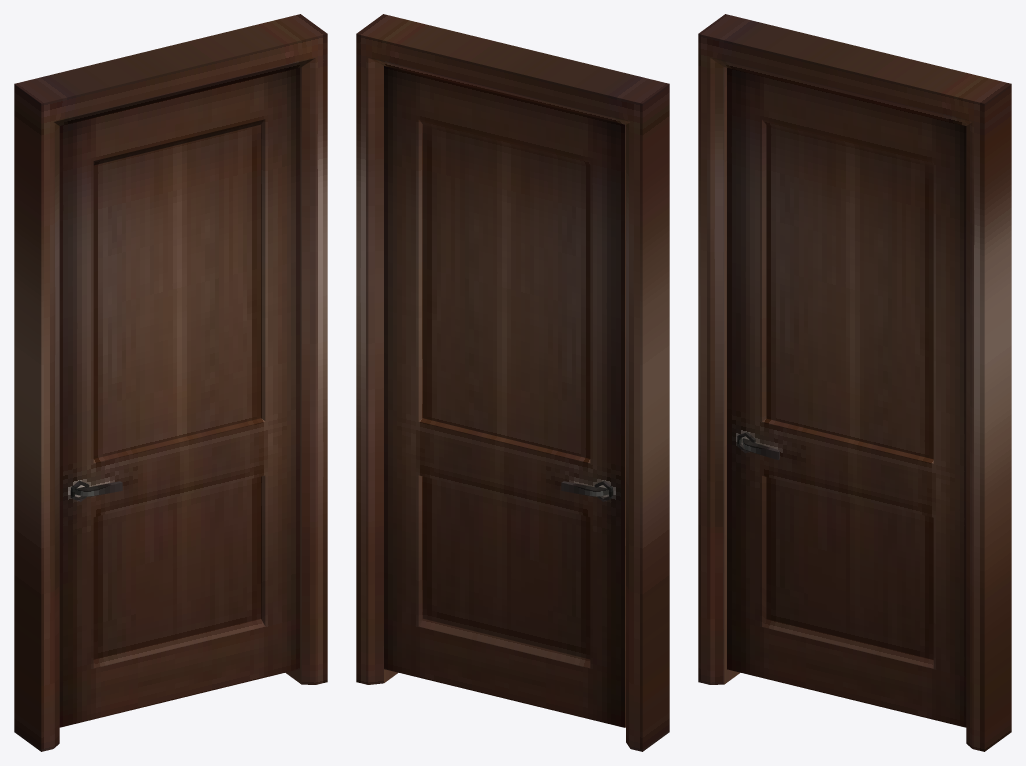
The model's file is door_panel.glb.
3 views of the same model, side by side, from view 1: azimuth 30°, elevation 25°; view 2: azimuth 150°, elevation 25°; view 3: azimuth 330°, elevation 25° (orthographic).
Parts seen in each view (by area): view 1: door_panel; view 2: door_panel; view 3: door_panel.
Part boxes in pixels (<box>): door_panel: <box>14,14,327,751</box>; door_panel: <box>356,14,669,751</box>; door_panel: <box>698,14,1011,751</box>.
Size of the model in its own units: 0.897 by 1.94 by 0.1507.
1 material, 1 textured.
